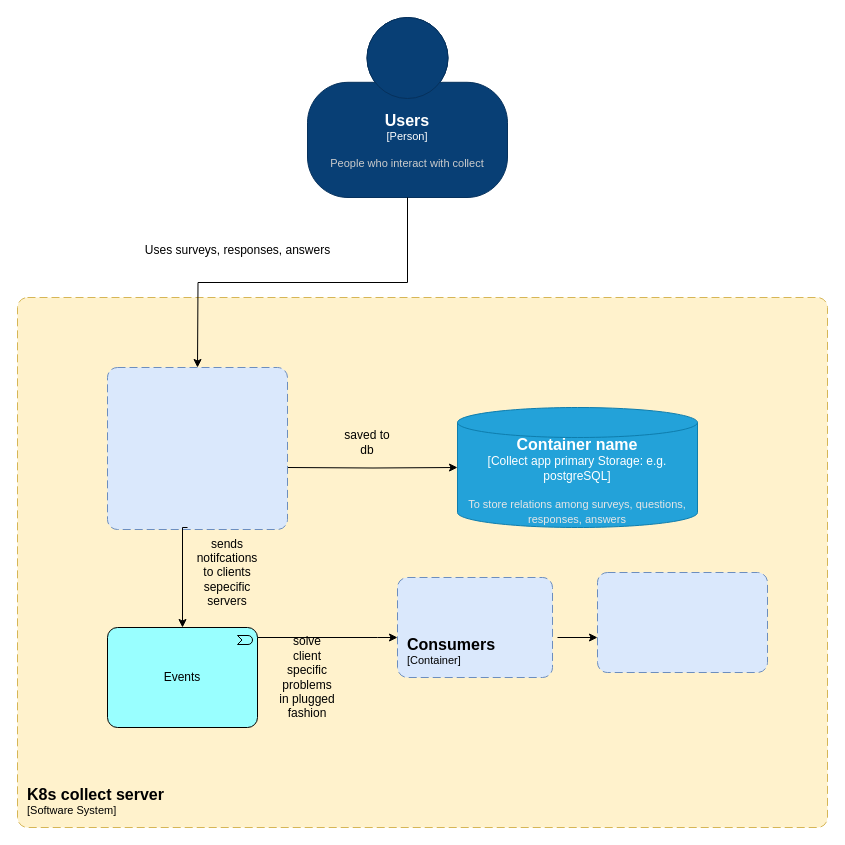
This 845x845 diagram has some shape labels left out. Each missing label, with the centre of its shape:
Collect API server [Container]: [197,448]
Peripherals [Container]: [682,622]
